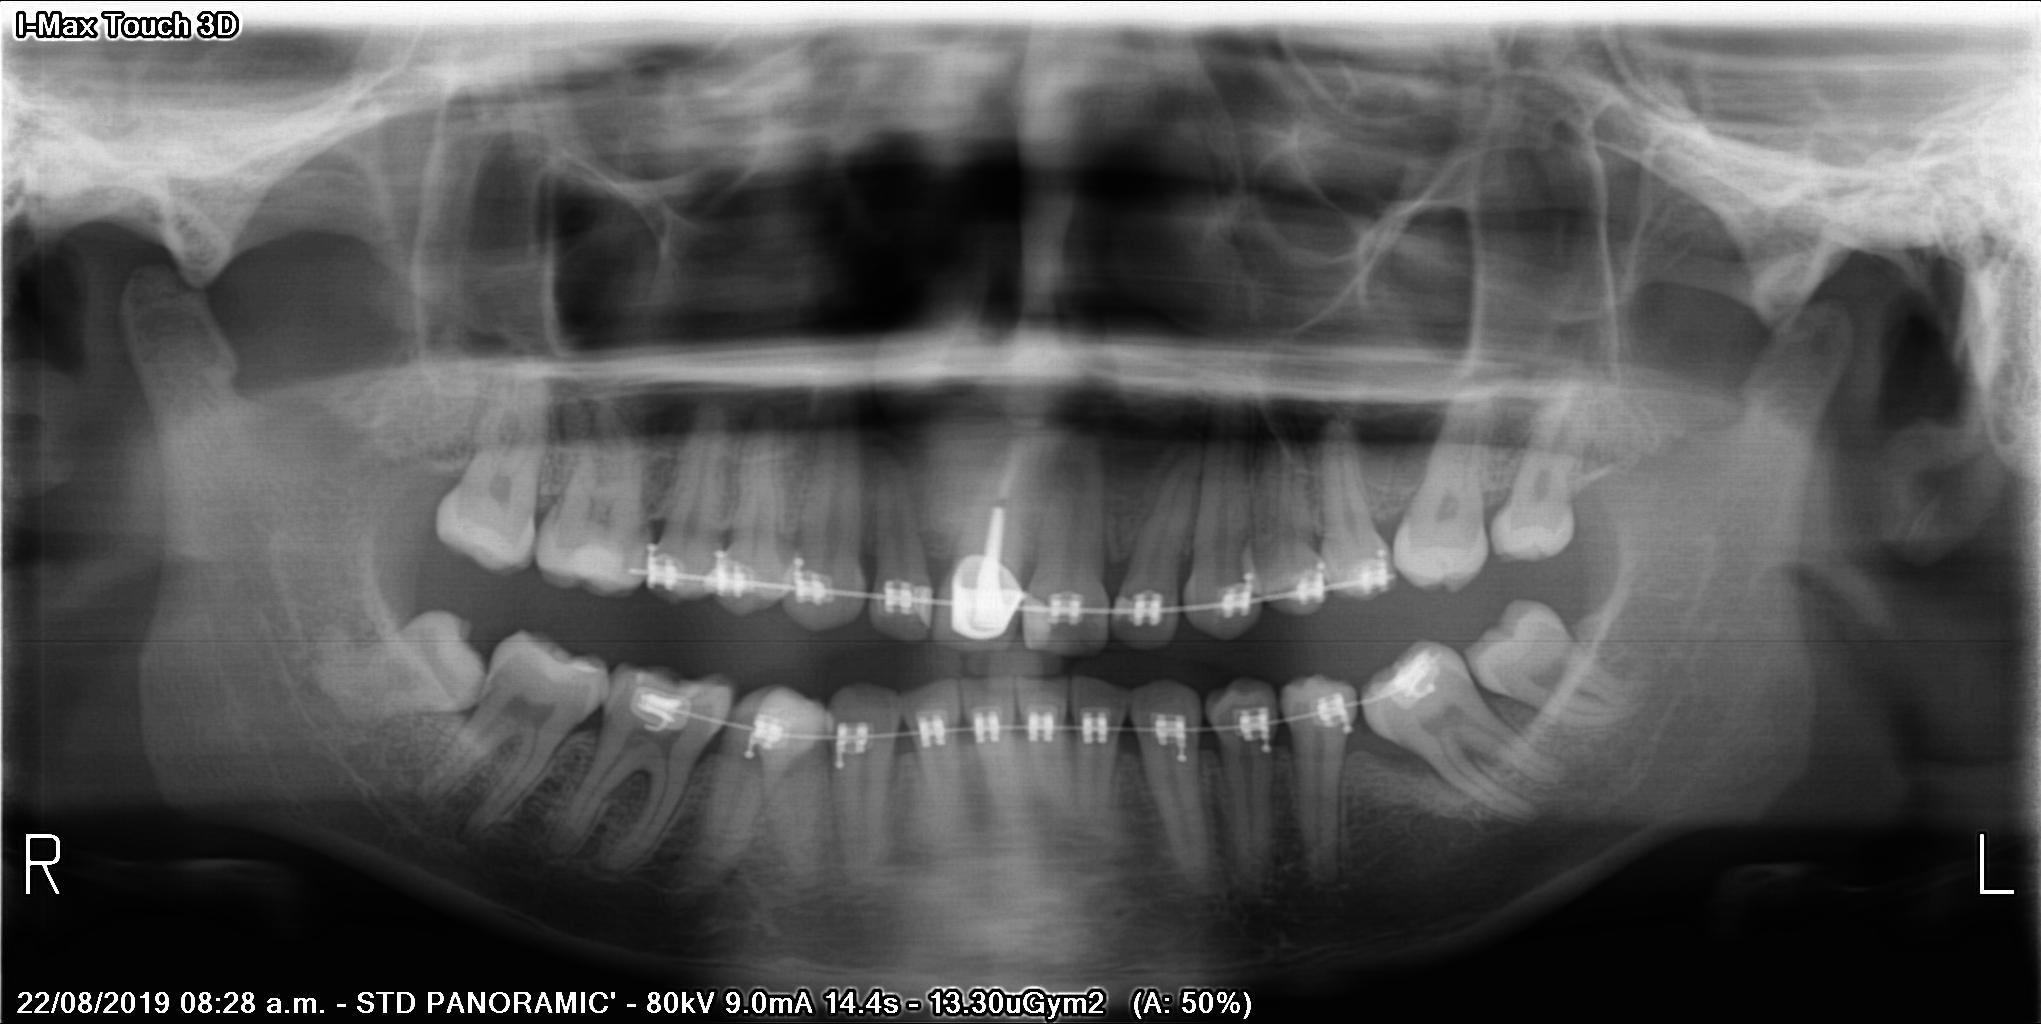Çürük: (944, 494, 1028, 643)
